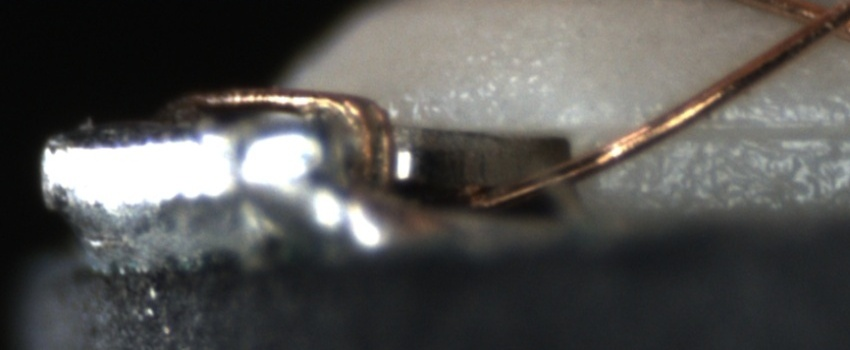CL: (778, 1, 849, 45)
DL: (676, 102, 849, 160)
TE: (183, 84, 404, 207)
